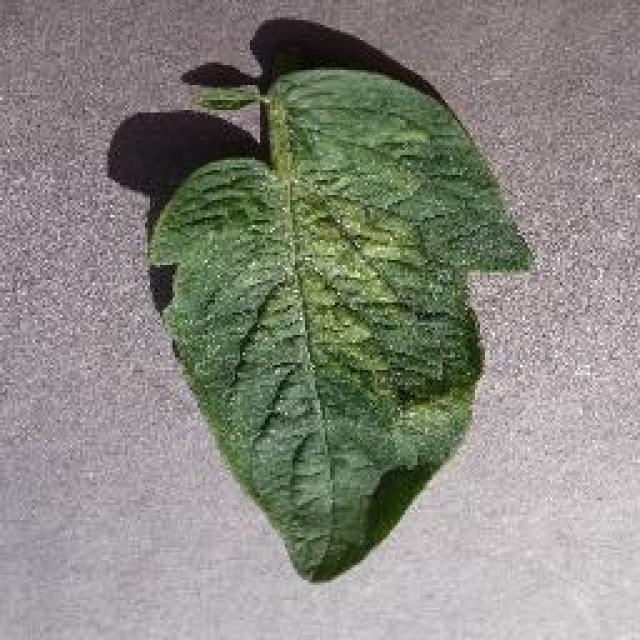Tomato___Spider_mites Two-spotted_spider_mite: (148, 70, 530, 580)
